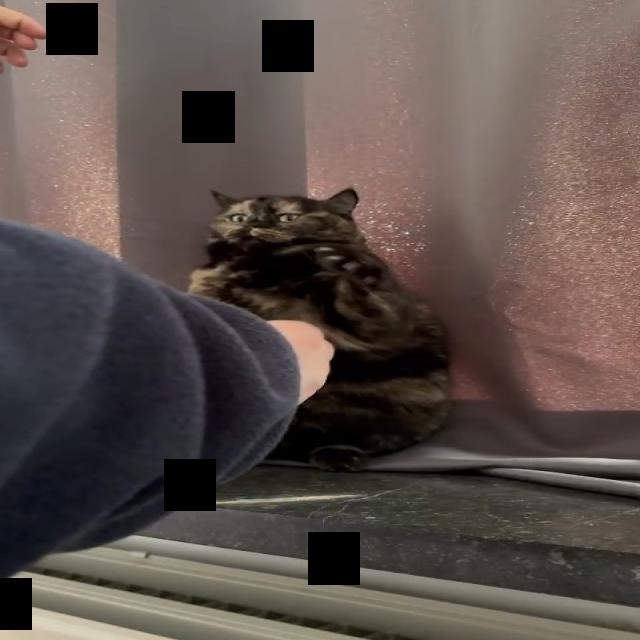authorized: (185, 185, 454, 472)
